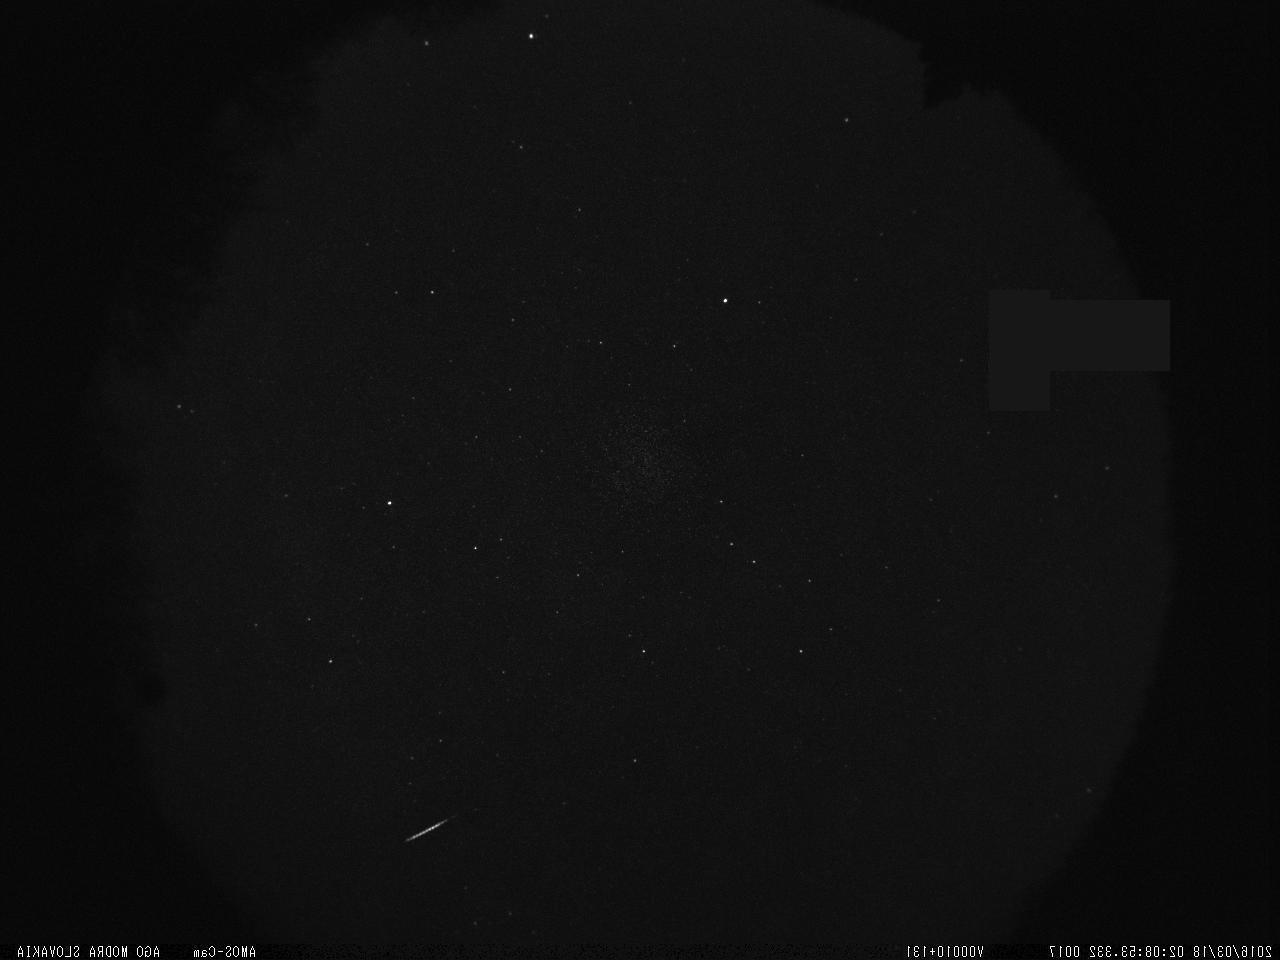meteor: (386, 790, 471, 859)
